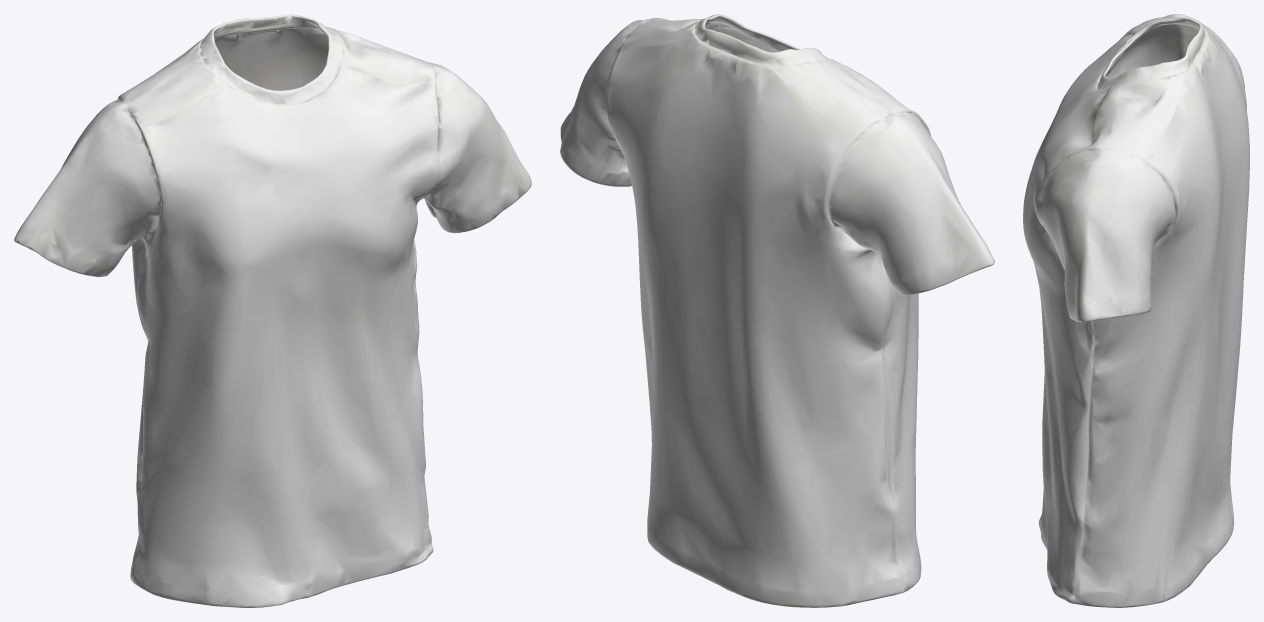
3 views of the same model, side by side, from view 1: azimuth 30°, elevation 25°; view 2: azimuth 150°, elevation 25°; view 3: azimuth 270°, elevation 25° (orthographic). The views are drawn at different scales.
Parts seen in each view (by area): view 1: tripo_node_233de1ef-3f0f-45ad-9fdb-8670ef1fc3c3; view 2: tripo_node_233de1ef-3f0f-45ad-9fdb-8670ef1fc3c3; view 3: tripo_node_233de1ef-3f0f-45ad-9fdb-8670ef1fc3c3.
Part boxes in pixels (<box>): tripo_node_233de1ef-3f0f-45ad-9fdb-8670ef1fc3c3: <box>14,14,531,607</box>; tripo_node_233de1ef-3f0f-45ad-9fdb-8670ef1fc3c3: <box>560,14,994,607</box>; tripo_node_233de1ef-3f0f-45ad-9fdb-8670ef1fc3c3: <box>1023,14,1249,607</box>.
Size of the model in its own units: 0.9313 by 0.9999 by 0.398.
Materials: 1 (1 with a texture image).
